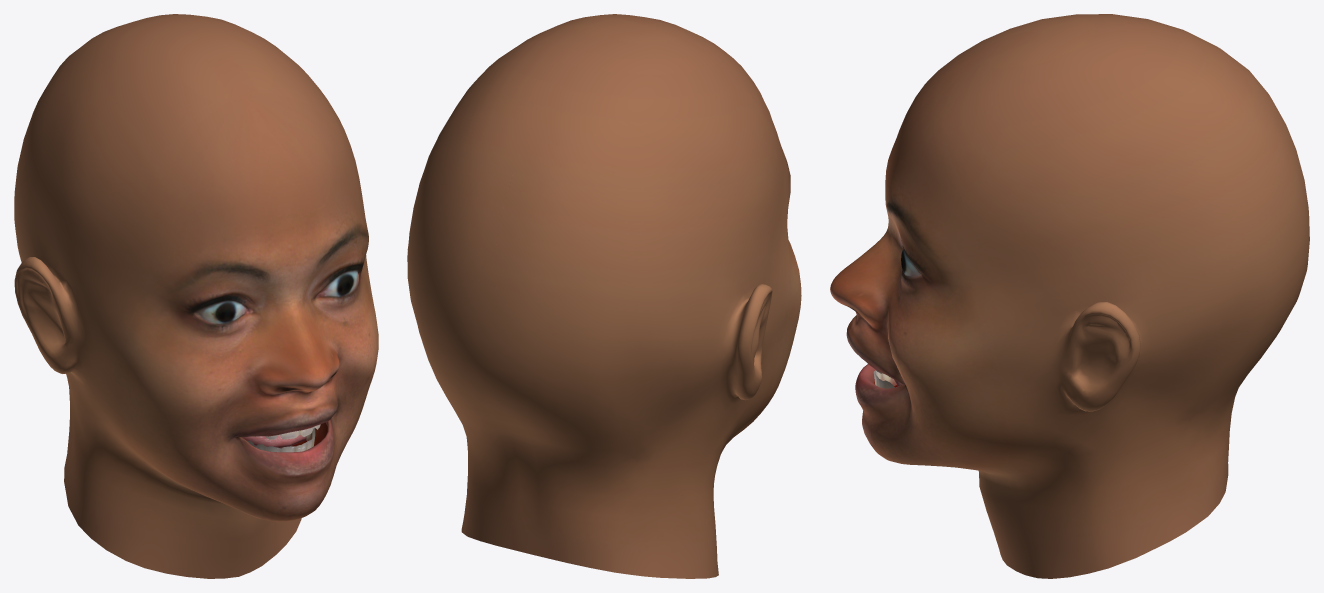
The model's file is v332_obj_Phonemeee.obj.
3 views of the same model, side by side, from view 1: azimuth 30°, elevation 25°; view 2: azimuth 150°, elevation 25°; view 3: azimuth 270°, elevation 25° (orthographic). The views are drawn at different scales.
Parts seen in each view (by area): view 1: HeadHires, Mouth; view 2: HeadHires; view 3: HeadHires.
Part boxes in pixels (box(x1,y1,x2,y2)): HeadHires: box(14, 14, 378, 578); Mouth: box(242, 422, 327, 452); HeadHires: box(407, 14, 801, 578); HeadHires: box(830, 14, 1309, 578).
Bounding box in the file's own units: 187 × 282 × 233.
